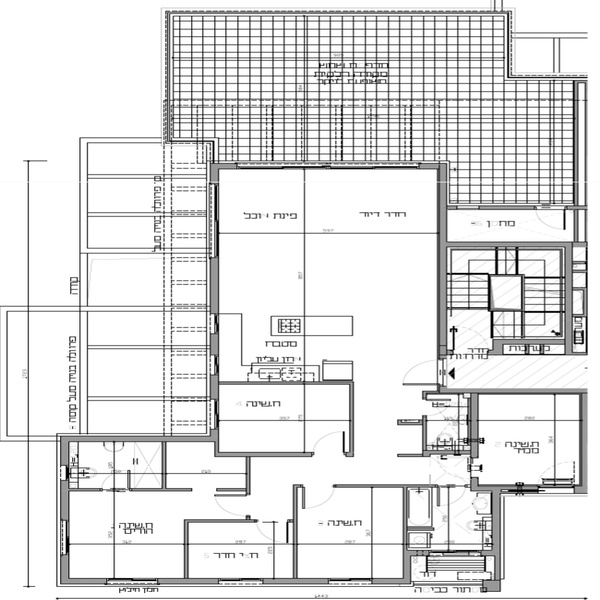door: (397, 357, 445, 389), (298, 481, 342, 515), (211, 487, 256, 517), (310, 427, 352, 458), (256, 516, 295, 547), (534, 205, 570, 237)
room: (199, 159, 450, 360), (54, 436, 190, 584), (469, 384, 590, 499), (397, 483, 515, 600), (289, 478, 414, 587), (203, 379, 357, 464), (176, 510, 307, 587)
wall: (437, 168, 447, 362), (57, 433, 215, 444), (578, 392, 592, 507), (209, 447, 317, 460), (213, 378, 354, 387), (489, 491, 503, 578), (204, 253, 222, 315), (437, 387, 587, 394), (467, 386, 481, 459), (155, 578, 223, 592), (267, 575, 329, 589), (347, 381, 357, 458), (467, 484, 543, 494), (58, 478, 74, 524), (182, 522, 193, 583), (184, 517, 257, 526), (159, 440, 171, 493), (374, 572, 412, 586), (417, 154, 447, 171), (66, 575, 107, 587), (244, 460, 254, 500), (57, 555, 69, 587), (60, 434, 71, 468), (206, 163, 237, 175), (207, 376, 221, 400), (207, 335, 222, 355)
window: (232, 156, 419, 178), (104, 571, 160, 594), (204, 182, 218, 259), (217, 568, 263, 588), (542, 478, 573, 499), (203, 401, 219, 433), (205, 313, 223, 337), (204, 357, 223, 375), (57, 517, 67, 550), (57, 464, 73, 484)
